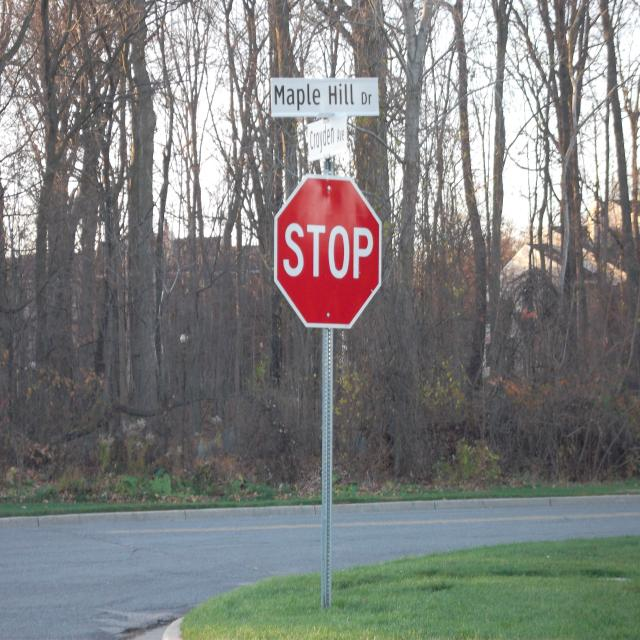stop: (273, 171, 384, 330)
